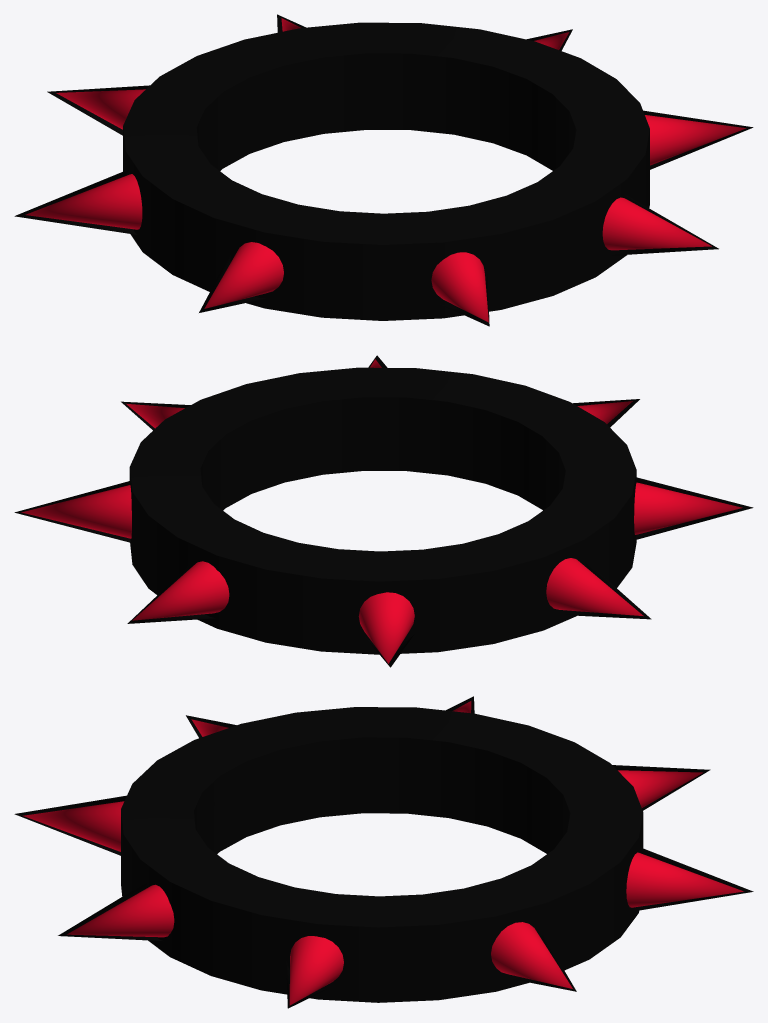
File: Ring.fbx
3 views of the same model, one above another, from view 1: azimuth 30°, elevation 25°; view 2: azimuth 150°, elevation 25°; view 3: azimuth 270°, elevation 25° (orthographic). The views are drawn at different scales.
Parts seen in each view (by area): view 1: SpikedRing; view 2: SpikedRing; view 3: SpikedRing.
Boxes of the visible parts, x1,y1,x2,y2 form: SpikedRing: (14,14,753,326); SpikedRing: (14,355,753,667); SpikedRing: (14,696,753,1008).
Bounding box in the file's own units: 7.57 × 0.8578 × 7.58.
